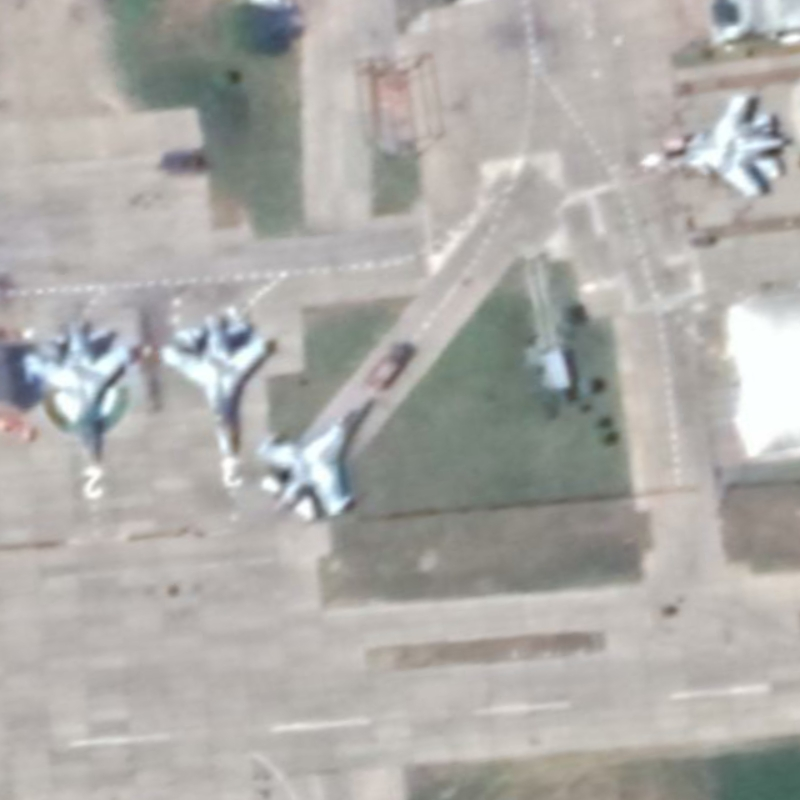A1: (153, 311, 270, 465), (20, 316, 136, 470), (255, 393, 377, 523)
A19: (635, 92, 788, 198)
